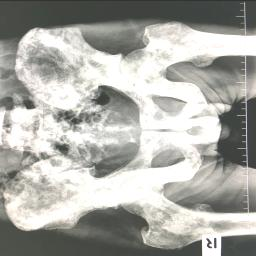cancer: (0, 21, 256, 248)
